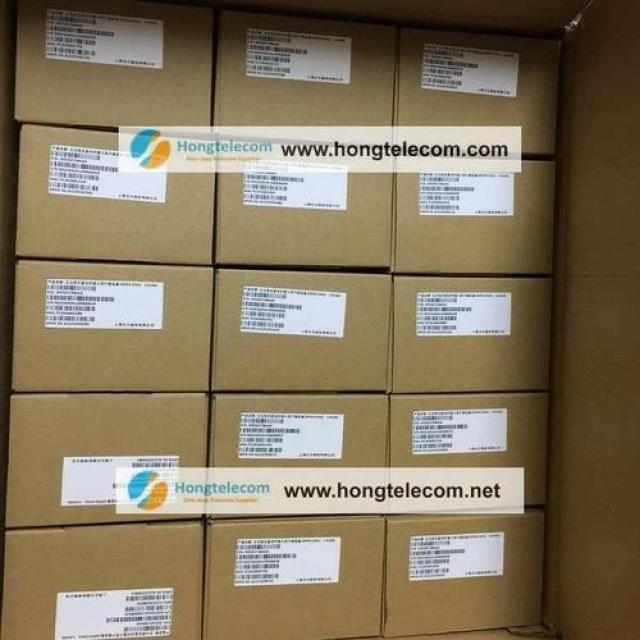box: (15, 123, 218, 264), (8, 392, 206, 529), (210, 3, 398, 147), (12, 259, 214, 393), (14, 1, 211, 137), (1, 520, 206, 640), (216, 138, 396, 273), (389, 18, 562, 156), (202, 515, 385, 640), (210, 266, 390, 392), (206, 392, 389, 515), (381, 508, 545, 637), (388, 152, 557, 276), (387, 275, 554, 393), (387, 394, 552, 513)
